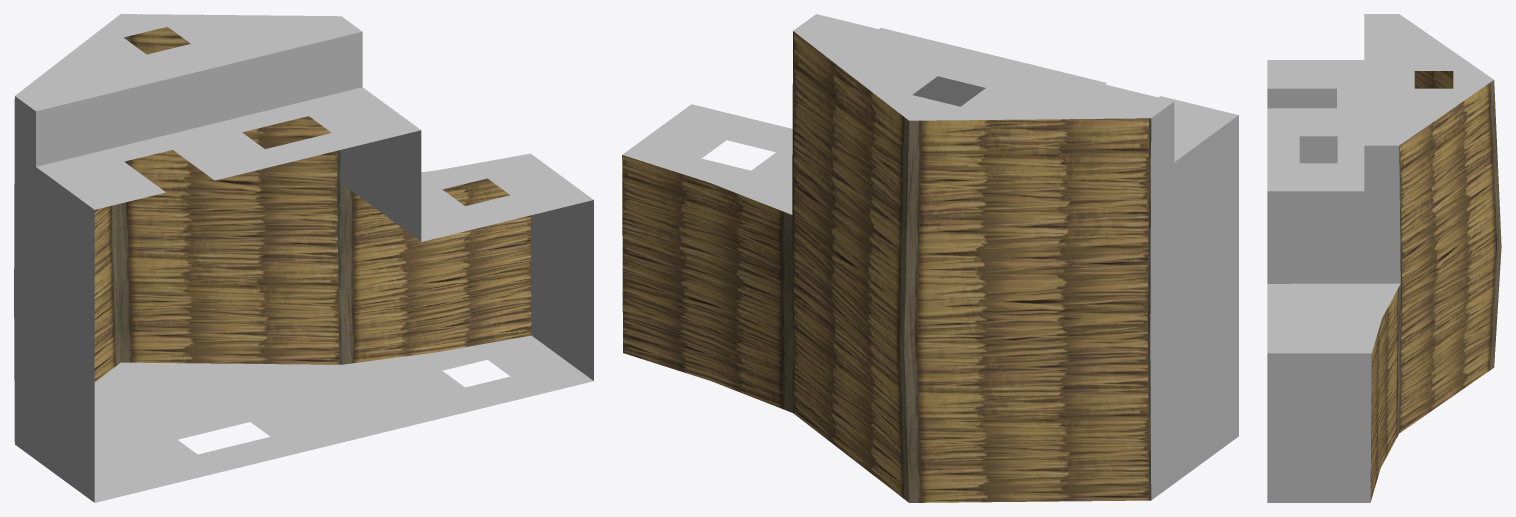
Rendered from Pirate_House_Exterior_Type01_E.fbx.
3 renders of one model, left to right at view 1: azimuth 30°, elevation 25°; view 2: azimuth 150°, elevation 25°; view 3: azimuth 270°, elevation 25°, orthographic. The views are drawn at different scales.
Visible parts, largest first — view 1: Pirate_House_Exterior_Type01_E; view 2: Pirate_House_Exterior_Type01_E; view 3: Pirate_House_Exterior_Type01_E.
Boxes of the visible parts, <box> form: Pirate_House_Exterior_Type01_E: <box>14,14,593,502</box>; Pirate_House_Exterior_Type01_E: <box>622,14,1238,502</box>; Pirate_House_Exterior_Type01_E: <box>1267,14,1501,502</box>.
Size of the model in its own units: 14.52 by 9.69 by 7.15.
